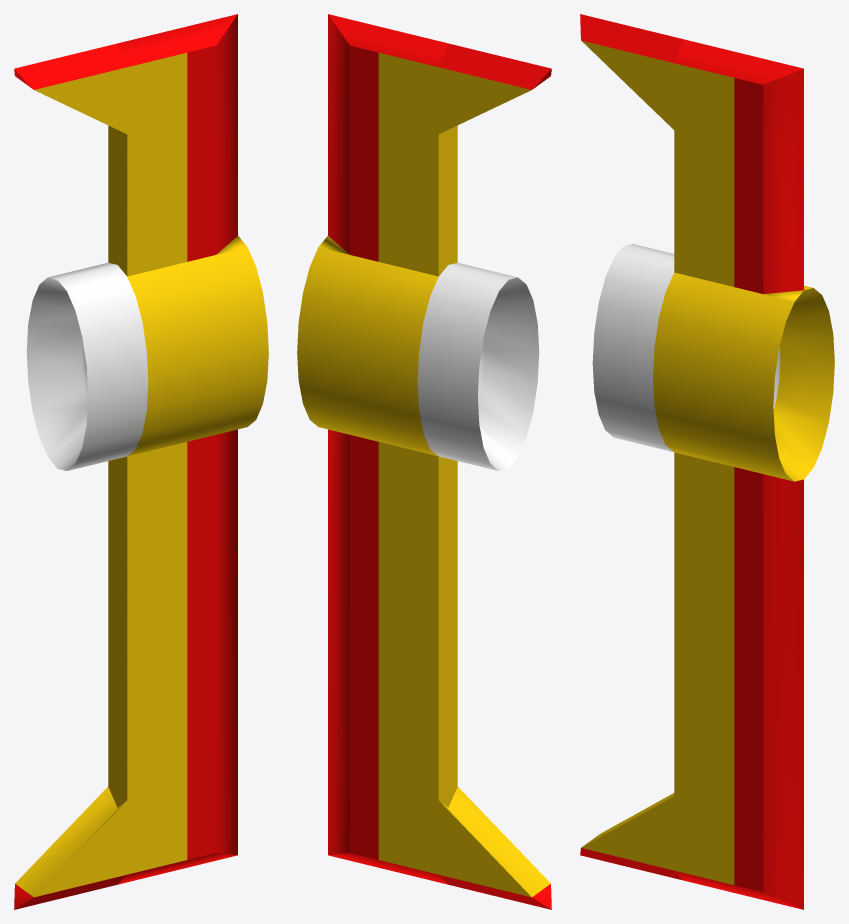
Rendered from battleship_05_incolor_01.fbx.
3 views of the same model, side by side, from view 1: azimuth 30°, elevation 25°; view 2: azimuth 150°, elevation 25°; view 3: azimuth 330°, elevation 25° (orthographic).
Parts seen in each view (by area): view 1: pCylinder1; view 2: pCylinder1; view 3: pCylinder1.
Boxes of the visible parts, left/top/right/bottom form: pCylinder1: left=14, top=14, right=268, bottom=909; pCylinder1: left=297, top=14, right=551, bottom=909; pCylinder1: left=580, top=14, right=834, bottom=909.
Size of the model in its own units: 2.48 by 8.9 by 1.18.
